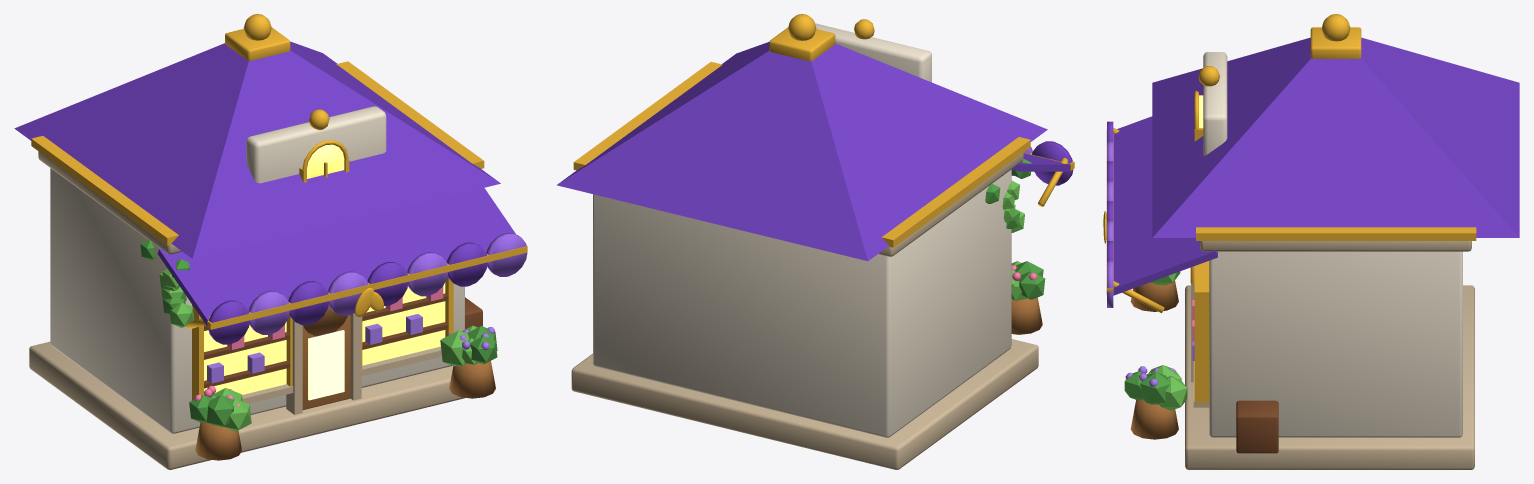
The model's file is magazin_5.glb.
3 renders of one model, left to right at view 1: azimuth 30°, elevation 25°; view 2: azimuth 150°, elevation 25°; view 3: azimuth 270°, elevation 25°, orthographic. The views are drawn at different scales.
Parts seen in each view (by area): view 1: Mag.001; view 2: Mag.001; view 3: Mag.001.
Boxes of the visible parts, left/top/right/bottom form: Mag.001: left=14, top=14, right=527, bottom=469; Mag.001: left=557, top=14, right=1074, bottom=469; Mag.001: left=1103, top=14, right=1519, bottom=469.
Size of the model in its own units: 3.35 by 3.42 by 3.45.
